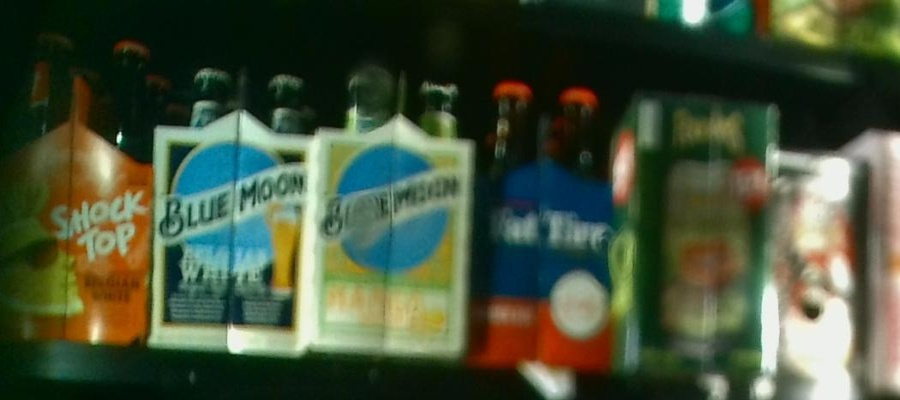bottle: (152, 58, 314, 353), (316, 61, 473, 359), (613, 91, 770, 373), (5, 39, 147, 347), (479, 72, 611, 369)
